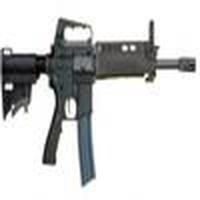gun: (2, 19, 200, 132)
